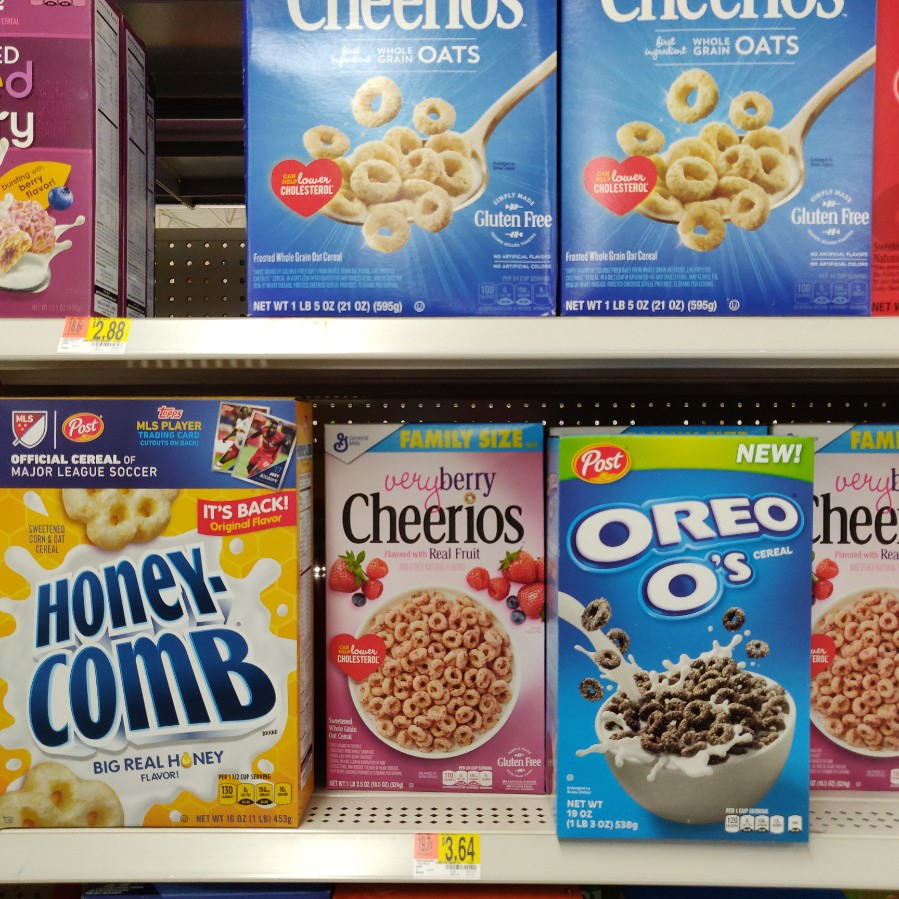Honey Comb- 009288857: (4, 397, 300, 824)
Oreo-563424384: (555, 434, 813, 841)
